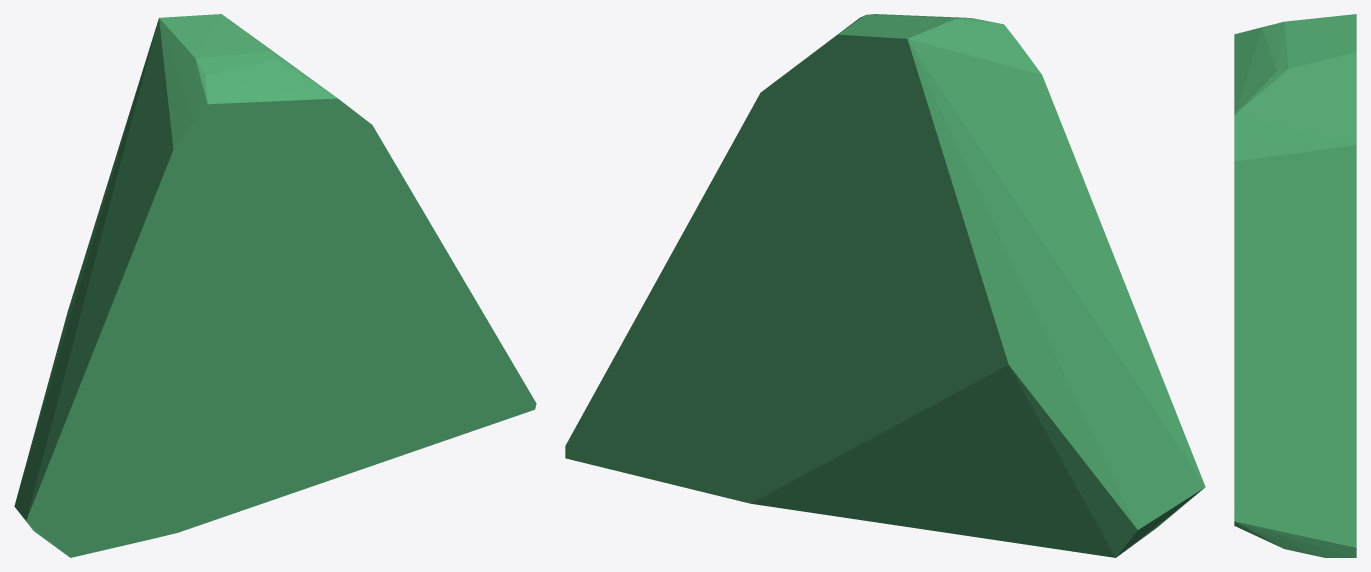
3 views of the same model, side by side, from view 1: azimuth 30°, elevation 25°; view 2: azimuth 150°, elevation 25°; view 3: azimuth 270°, elevation 25° (orthographic). The views are drawn at different scales.
Size of the model in its own units: 0.0199 by 0.0169 by 0.00458.
